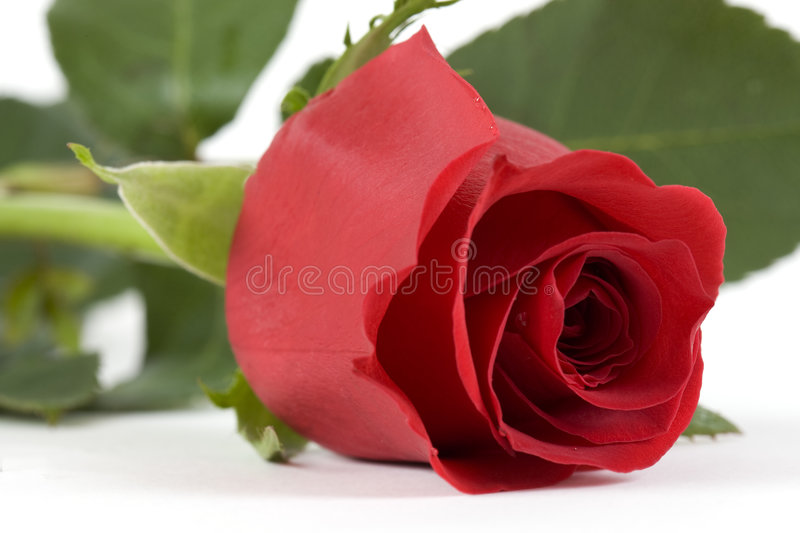RedRose: (210, 74, 717, 495)
